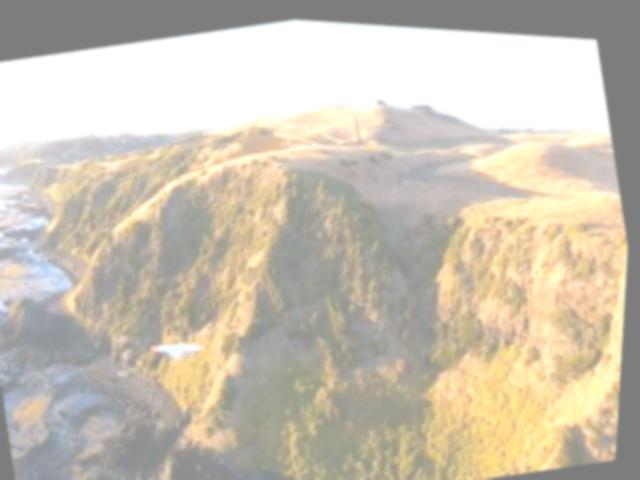uav: (153, 329, 212, 364)
